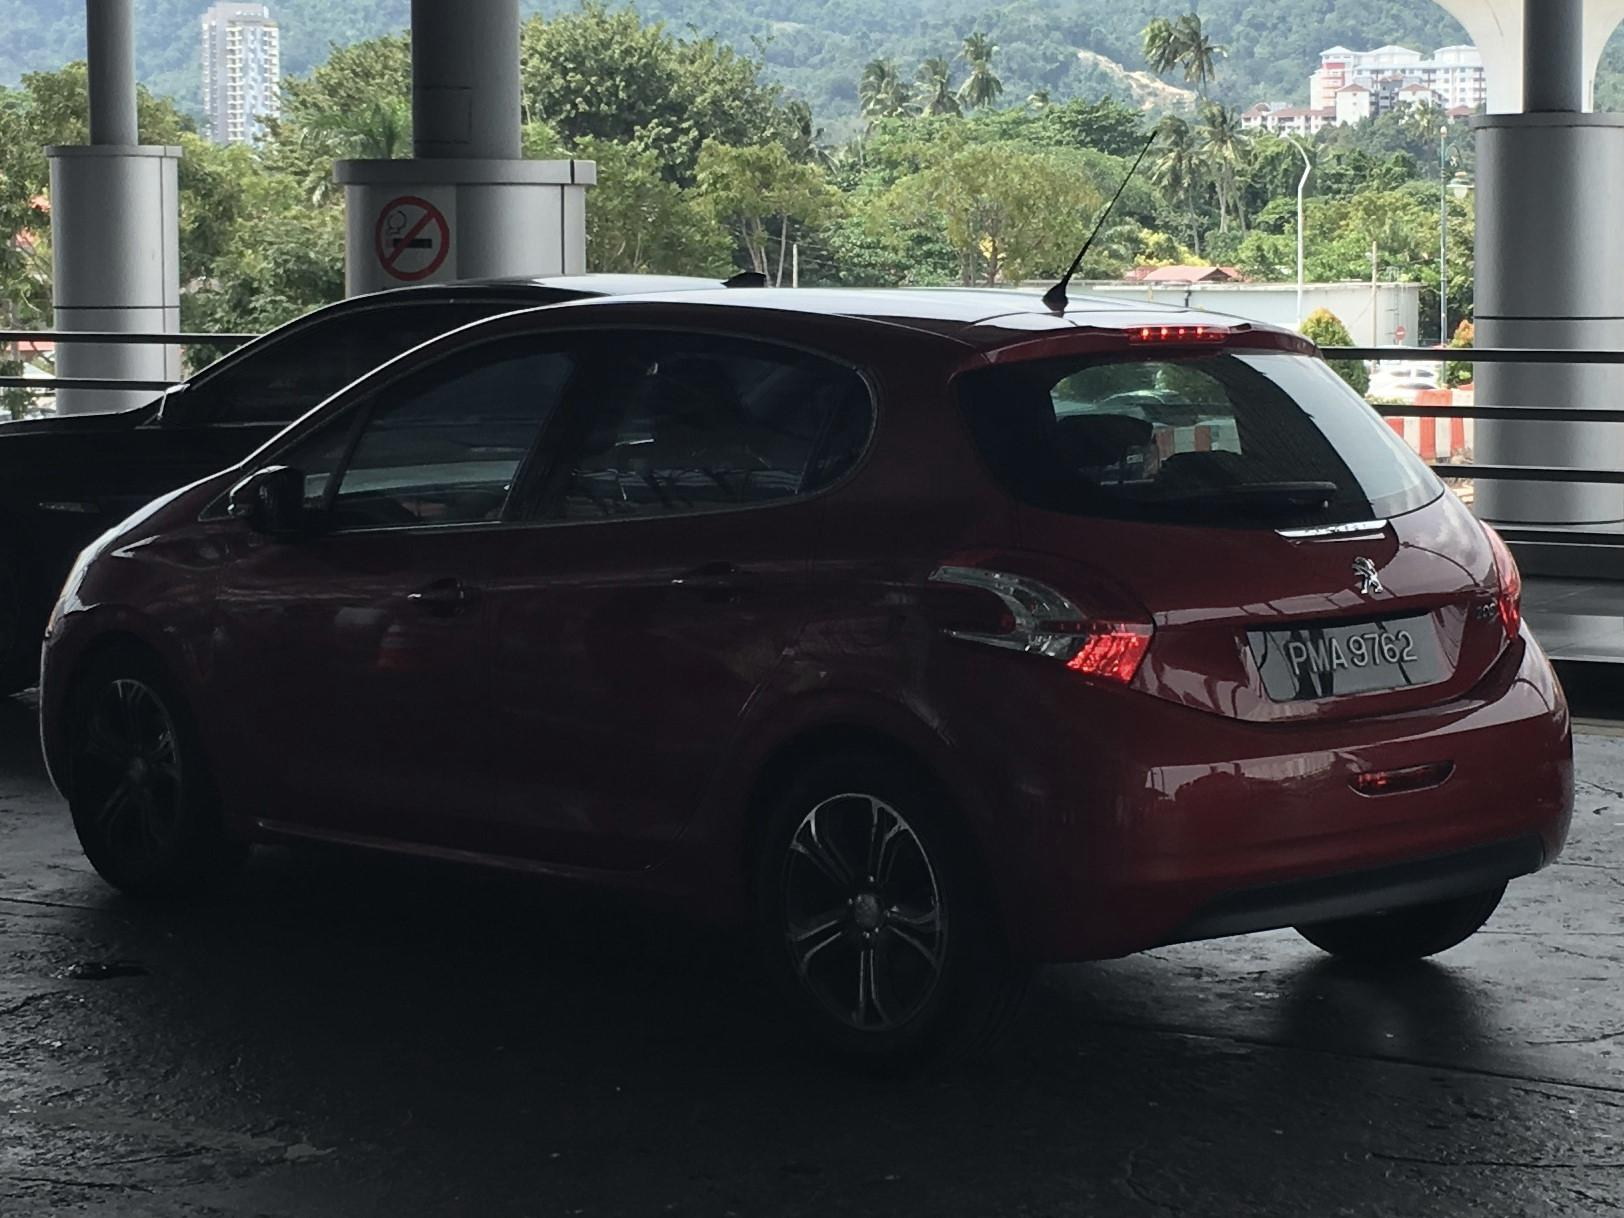License Plate: (1272, 616, 1444, 702)
